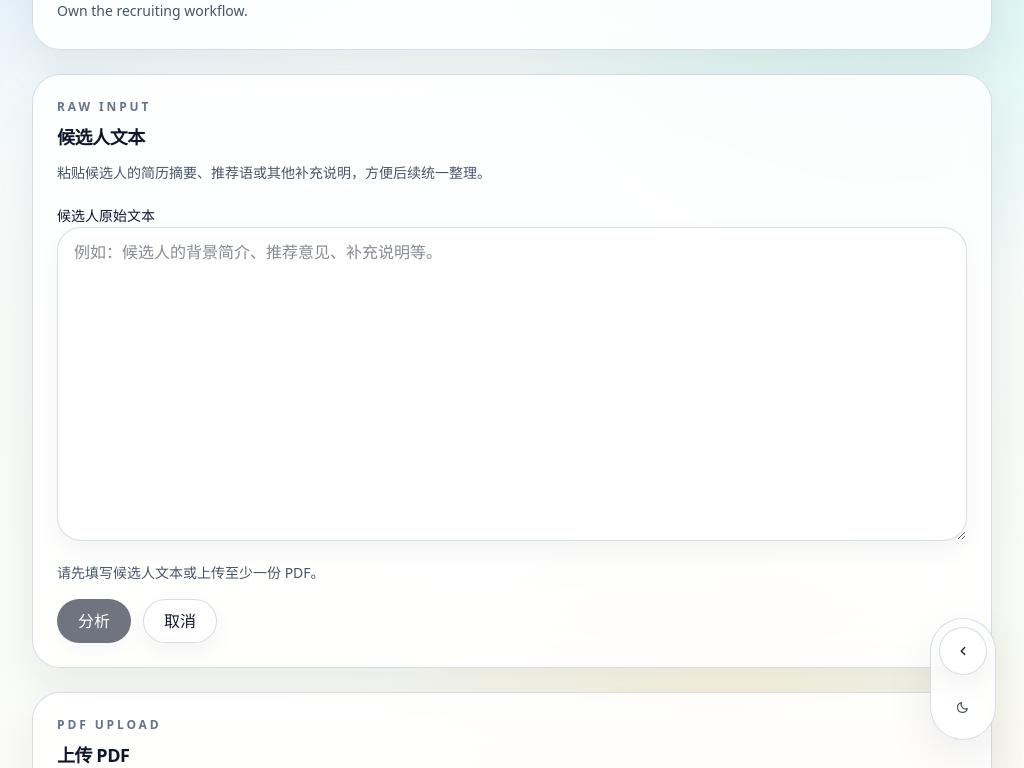
Test: Candidate import page › starts an analysis run and navigates to candidate detail after completion
This screenshot has width=1024, height=768.
(page scrolled)
Type "Candidate profile summary" into the text box labelled "候选人原始文本".
click(512, 384); type("Candidate profile summary")  # box top-left (57, 227), bottom-right (967, 541)
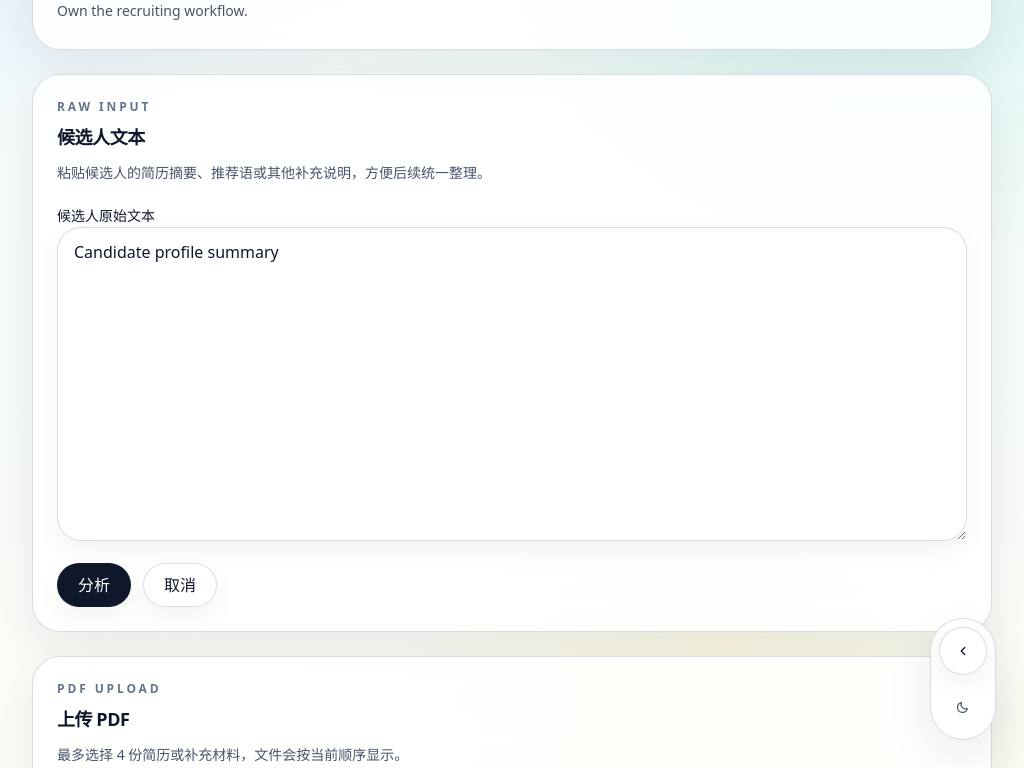
Expected: the button "分析" is enabled
Click the button "分析".
click(94, 585)  # box top-left (57, 563), bottom-right (131, 607)
(page scrolled)
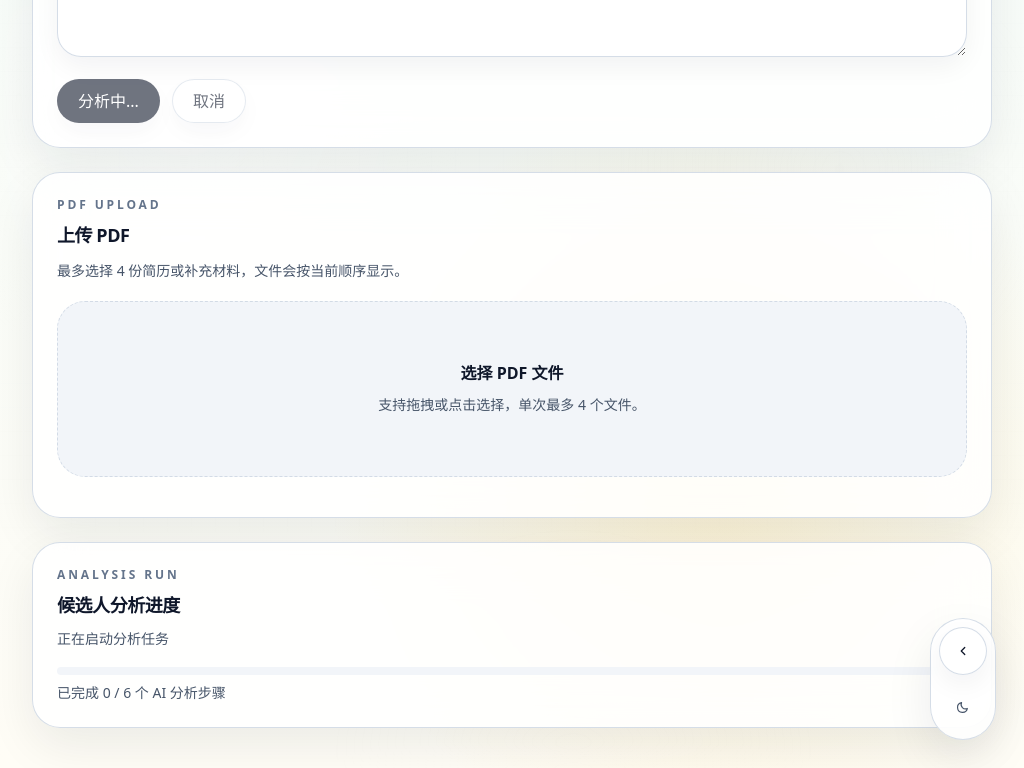
Expected: the heading "候选人分析进度" is shown, top-left (57, 593), bottom-right (180, 617)
